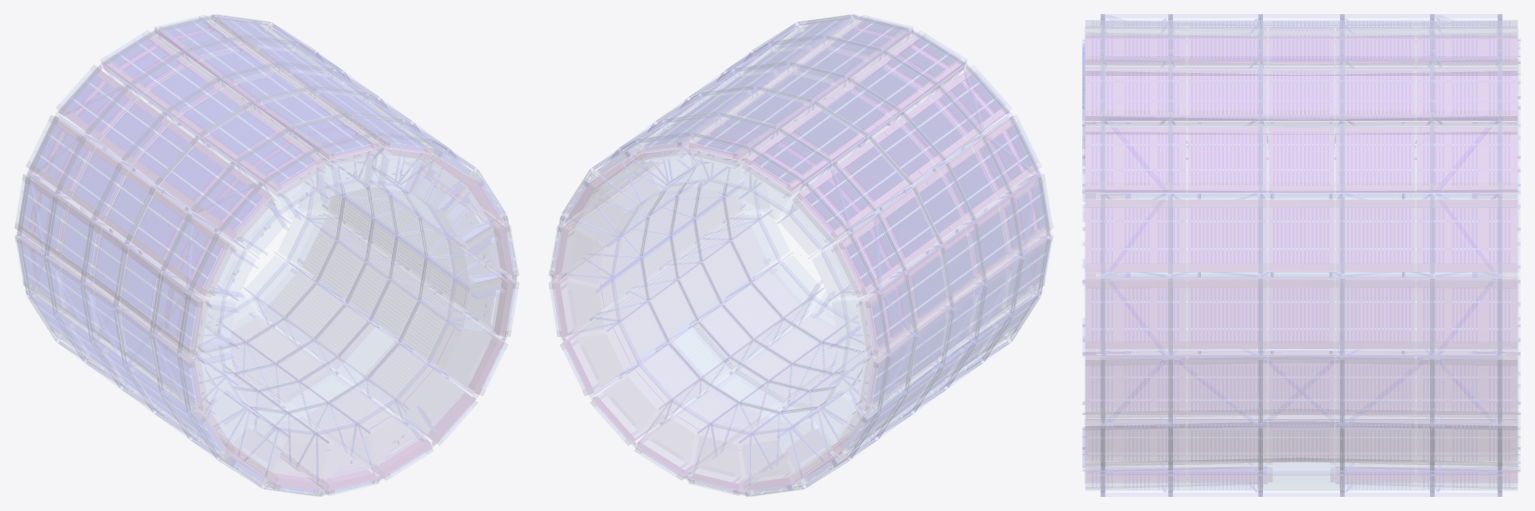
File: trd.glb
3 renders of one model, left to right at view 1: azimuth 30°, elevation 25°; view 2: azimuth 150°, elevation 25°; view 3: azimuth 270°, elevation 25°, orthographic. The views are drawn at different scales.
Parts seen in each view (by area): view 1: UTA1_2.011; view 2: UTA1_2.011; view 3: UTA1_2.011.
Part boxes in pixels (x1,y1,x2,y2): UTA1_2.011: (15,14,518,496); UTA1_2.011: (549,14,1052,496); UTA1_2.011: (1082,14,1520,496).
Bounding box in the file's own units: 830 × 819 × 751.
